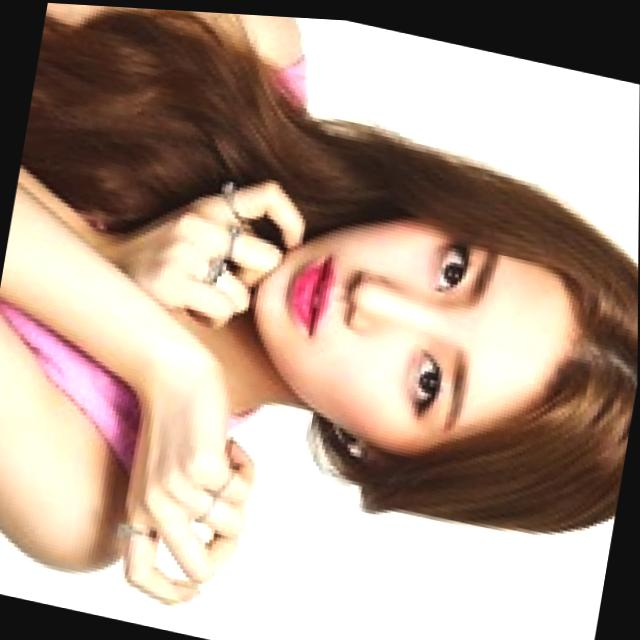face: (228, 154, 639, 518)
